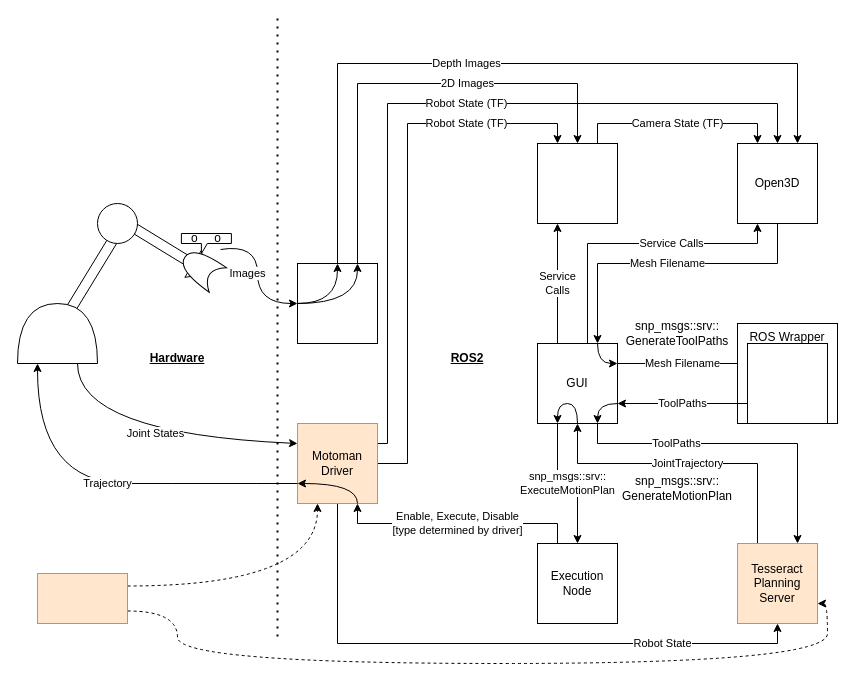
Image size: 855x681. Some labels were removed from this diagram. The shapes that lost their labels are listed below. From the top down, each one's centre as x and y in pixels, then its label:
the point at 577,183: Industrial Calibration
the point at 337,303: RealSense Driver
the point at 787,383: Noether
the point at 82,598: Was Running In ROS1 @ ROSCON 21
